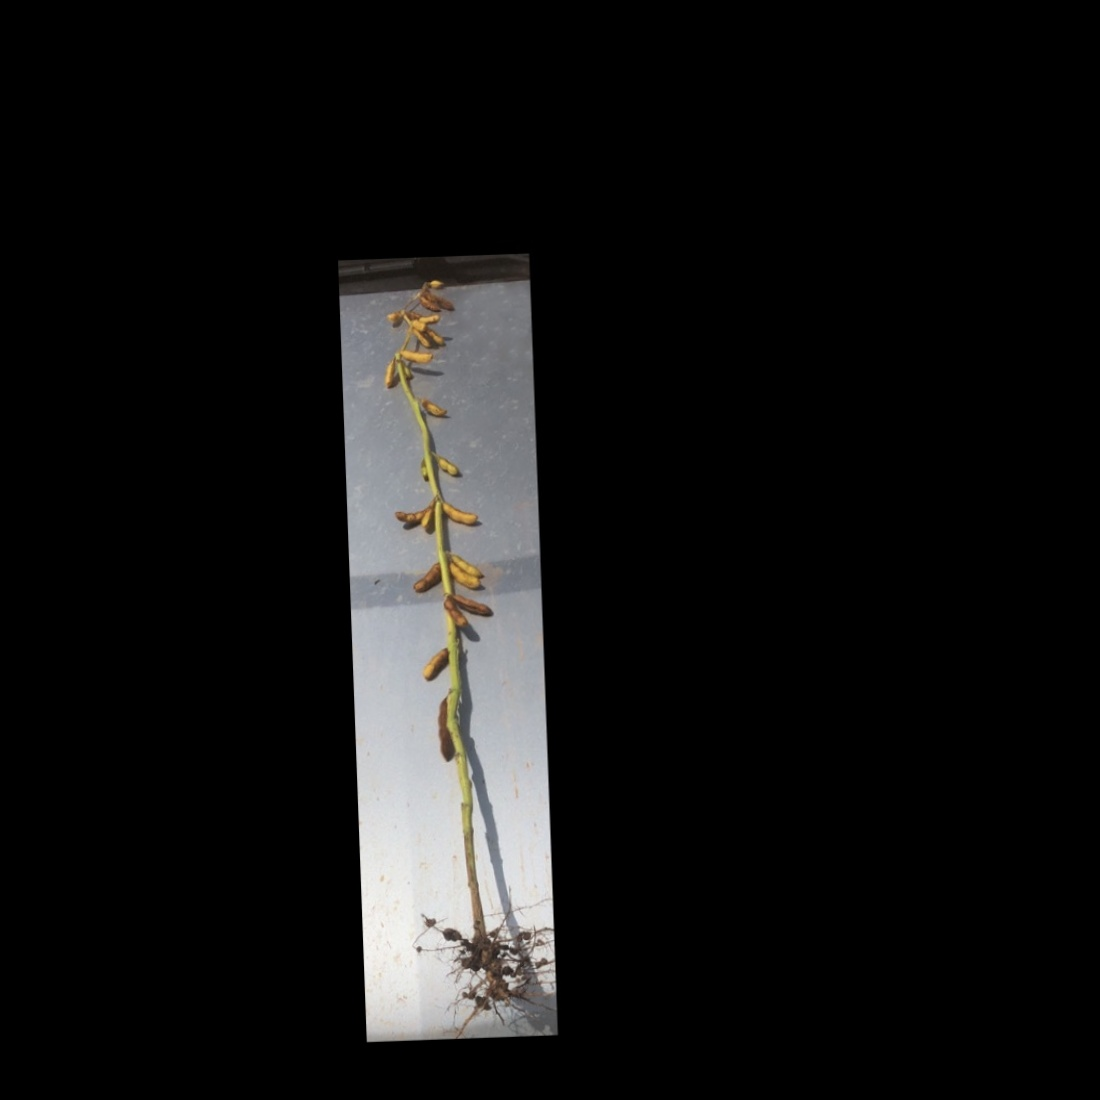pod: (434, 691, 457, 762), (451, 585, 500, 618), (409, 559, 445, 595), (439, 501, 480, 529), (422, 646, 453, 681), (439, 597, 468, 630), (401, 345, 436, 366), (418, 395, 449, 417), (434, 455, 463, 477), (381, 355, 397, 391), (382, 305, 405, 327), (417, 311, 443, 325), (427, 277, 448, 293), (418, 453, 428, 482)
soy: (352, 260, 544, 1026)
